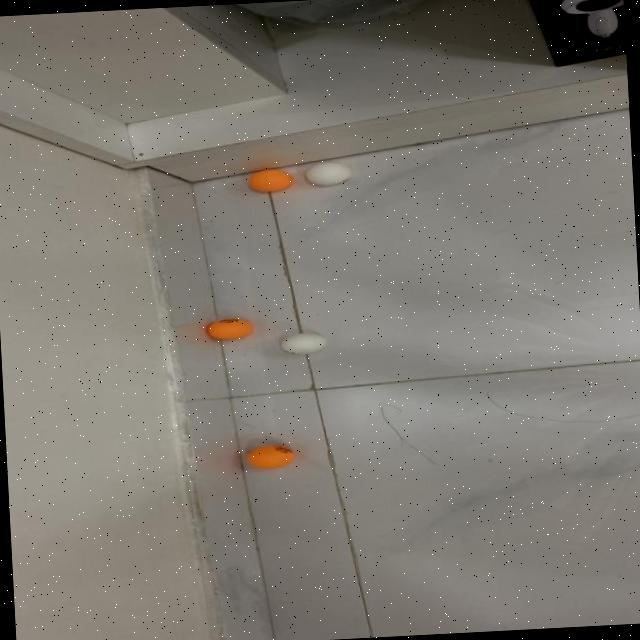ping-pong-ball: (245, 442, 296, 471), (304, 160, 352, 188), (203, 317, 254, 341), (278, 332, 326, 357), (248, 168, 293, 194)
